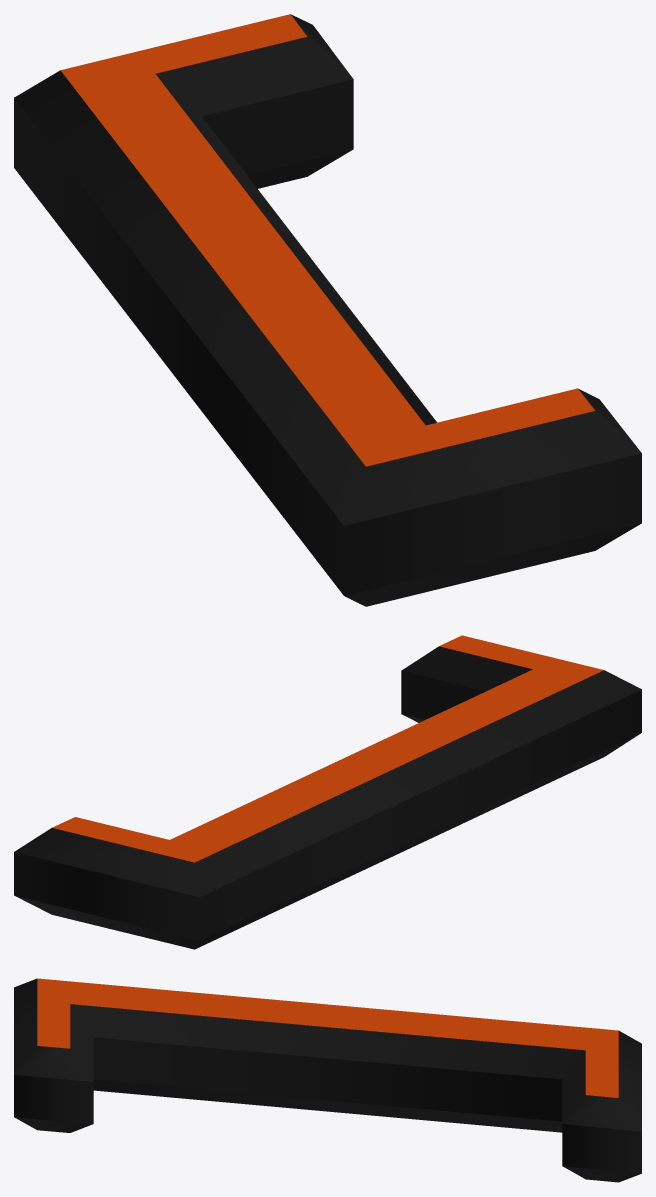
Rendered from CrochetOuvrant.fbx.
3 views of the same model, one above another, from view 1: azimuth 30°, elevation 25°; view 2: azimuth 150°, elevation 25°; view 3: azimuth 270°, elevation 25° (orthographic). The views are drawn at different scales.
Visible parts, largest first — view 1: Text; view 2: Text; view 3: Text.
Part boxes in pixels (x1,y1,x2,y2): Text: (14, 14, 641, 606); Text: (14, 635, 641, 949); Text: (14, 978, 641, 1182).
Bounding box in the file's own units: 0.5858 × 0.16 × 1.08.
